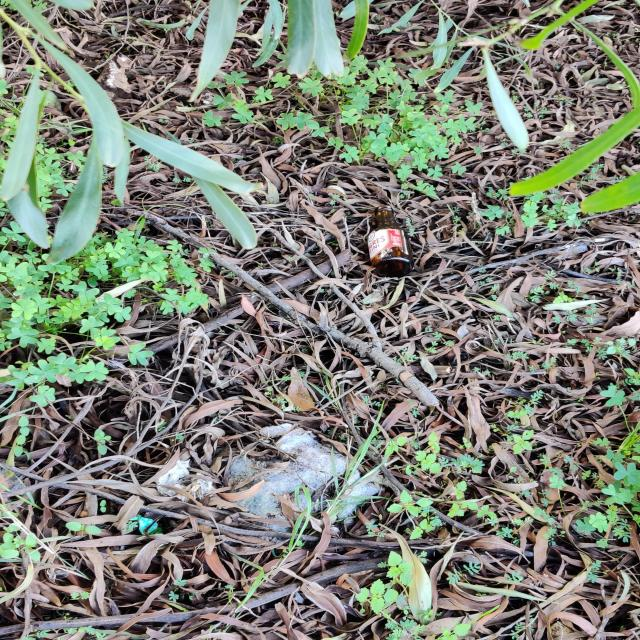litter: (343, 193, 424, 278)
